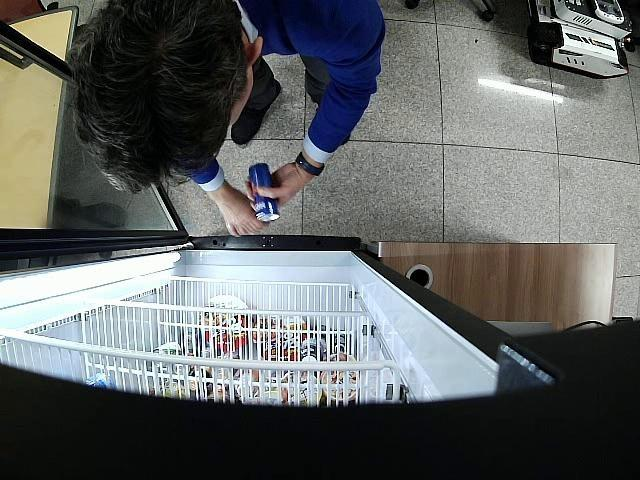16_hot6: (248, 162, 280, 222)
